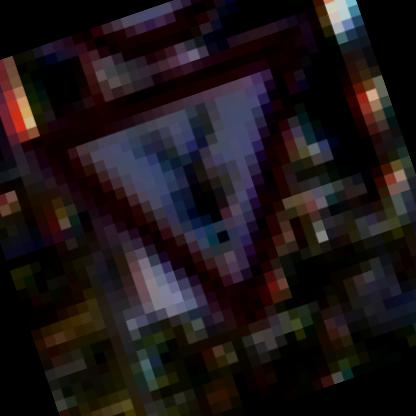crosswalk: (21, 26, 364, 367)
